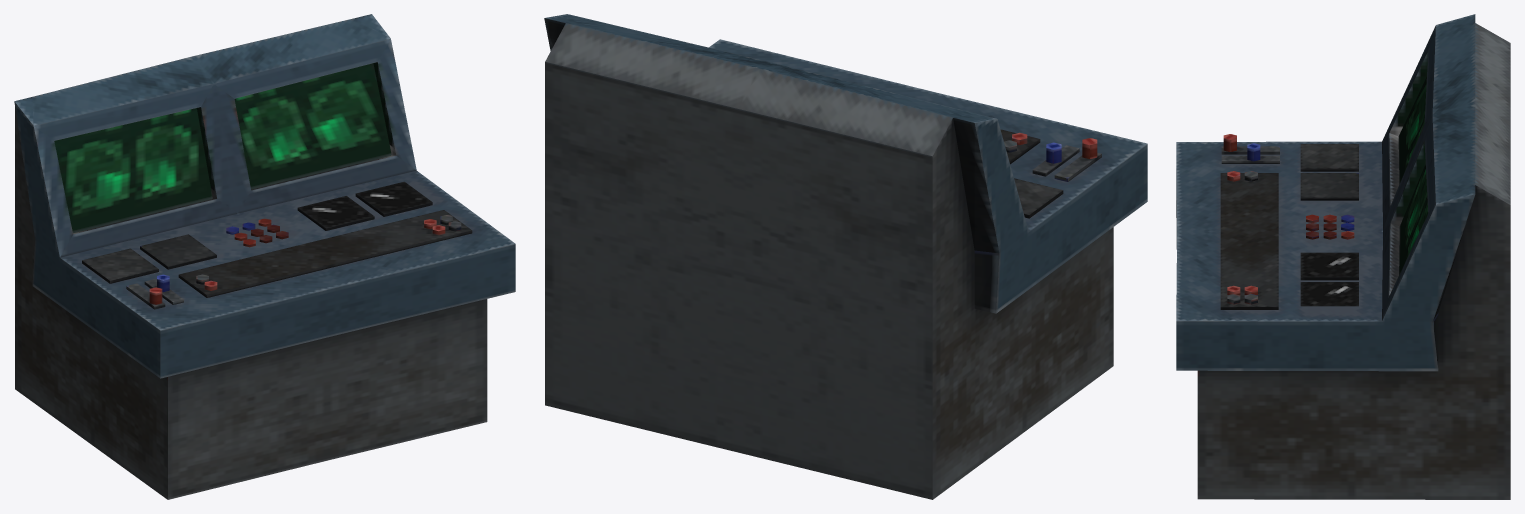
The model's file is Science Desk 2.fbx.
3 renders of one model, left to right at view 1: azimuth 30°, elevation 25°; view 2: azimuth 150°, elevation 25°; view 3: azimuth 270°, elevation 25°, orthographic. The views are drawn at different scales.
Parts seen in each view (by area): view 1: Science Table 2; view 2: Science Table 2; view 3: Science Table 2.
Boxes of the visible parts, x1,y1,x2,y2 form: Science Table 2: [14, 14, 515, 499]; Science Table 2: [544, 14, 1147, 499]; Science Table 2: [1176, 14, 1510, 499].
Size of the model in its own units: 193 by 158 by 151.
